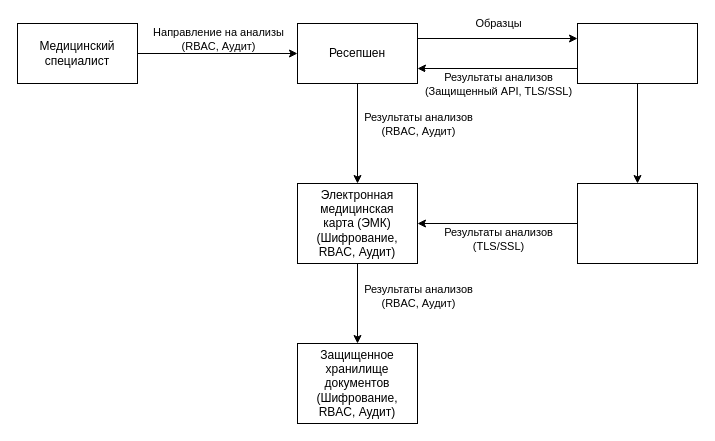
The diagram is 715 pixels wide and 441 high, and some of its shapes have lost their labels. The centre of each missing label's shape, as x and y in pixels:
Защищенный API-шлюз (Аутентификация, Авторизация, TLS/SSL): the point at 637,223
Лаборатория (внешняя): the point at 637,53
